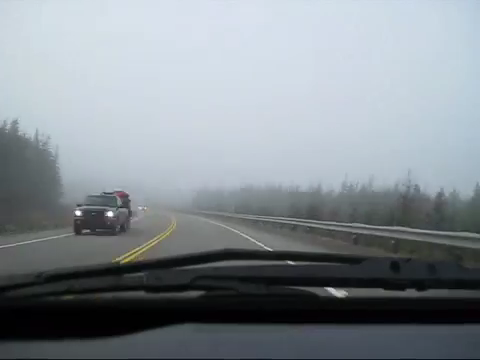car: (72, 194, 129, 235), (134, 203, 147, 211)
